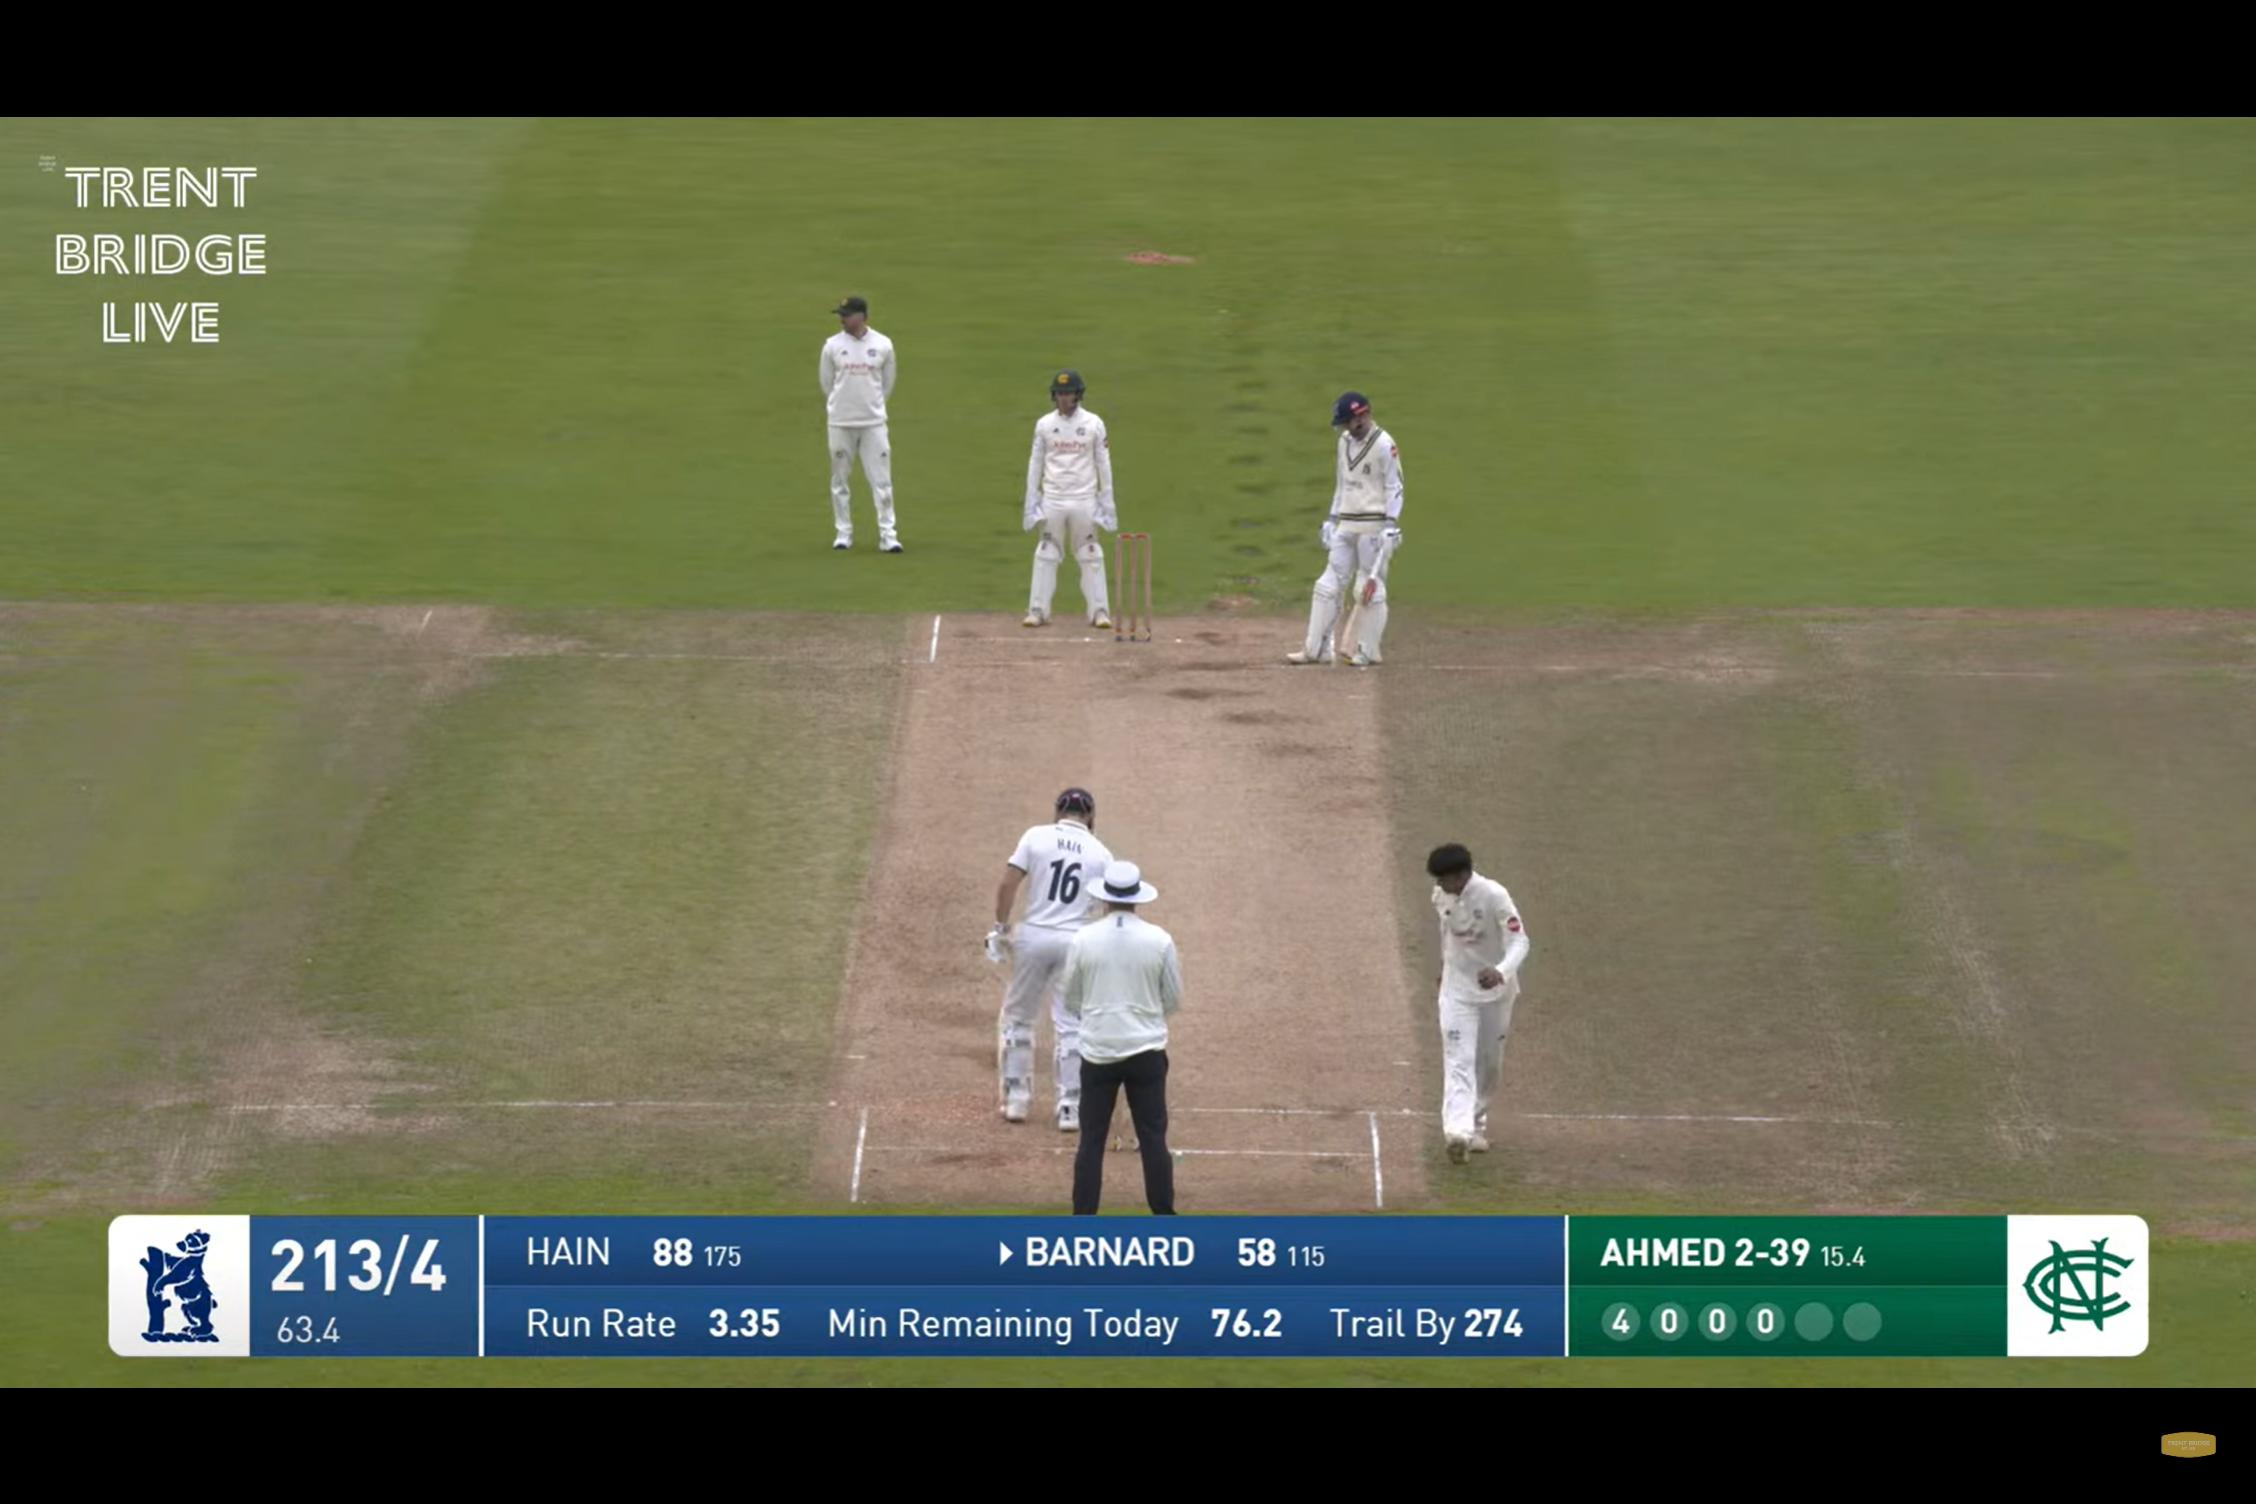batsman: (1267, 373, 1428, 680)
bowler walking back: (1381, 826, 1574, 1172)
umpire: (1039, 853, 1209, 1210)
wicket keeper: (1012, 347, 1121, 653)
